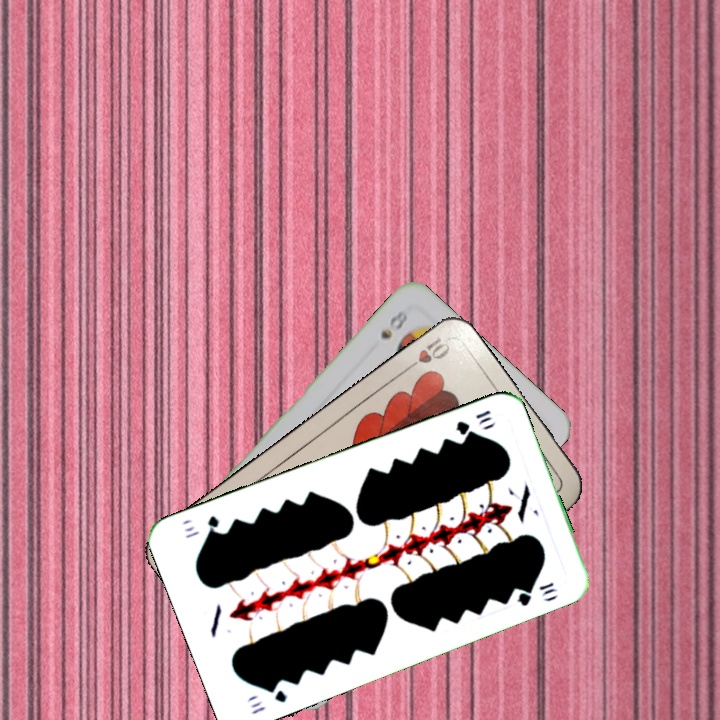G10: (246, 681, 290, 717), (452, 406, 493, 438)
H10: (399, 331, 454, 375)
S8: (376, 306, 411, 342)
